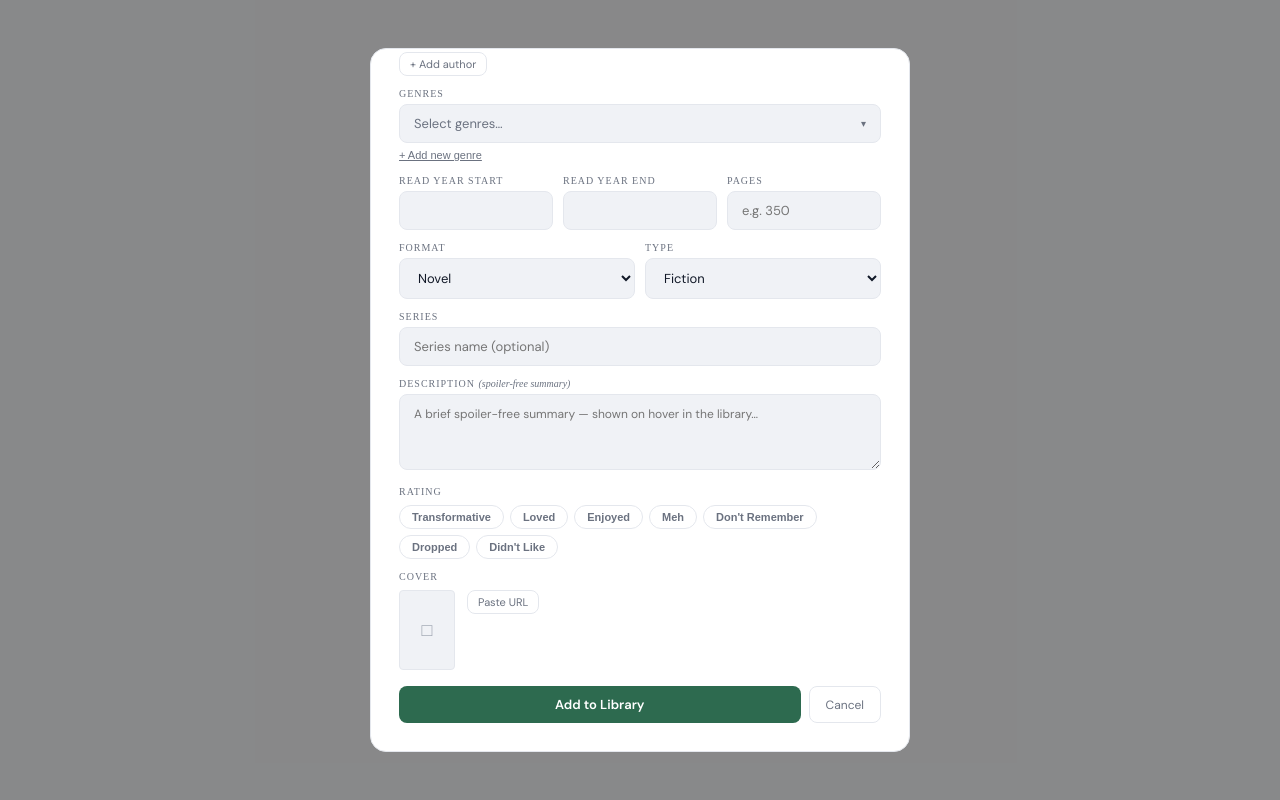
Test: BookModal › Paste URL Escape key closes the paste input
(page scrolled)
Click the button "Paste URL" at (503, 602), box [467,590,539,614]
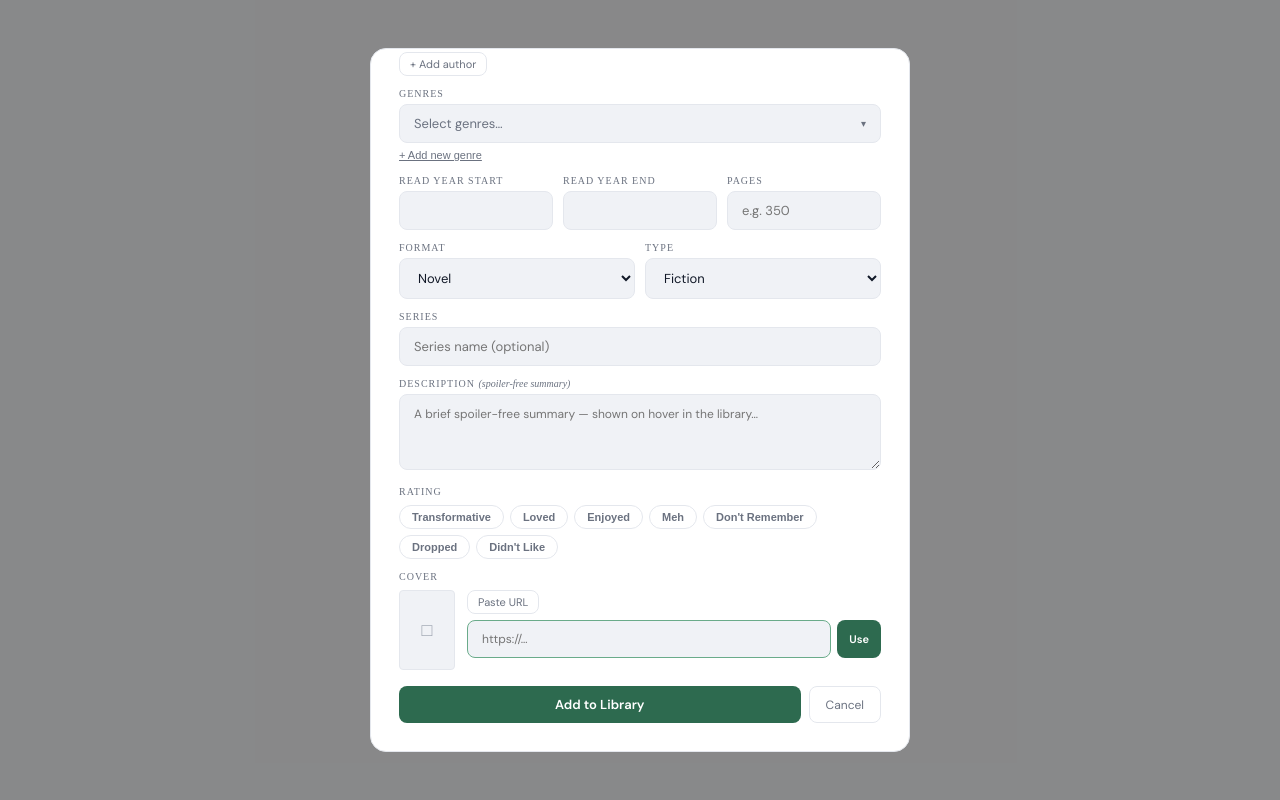
Press Escape in the field with placeholder "https://…", box [467,620,831,658]
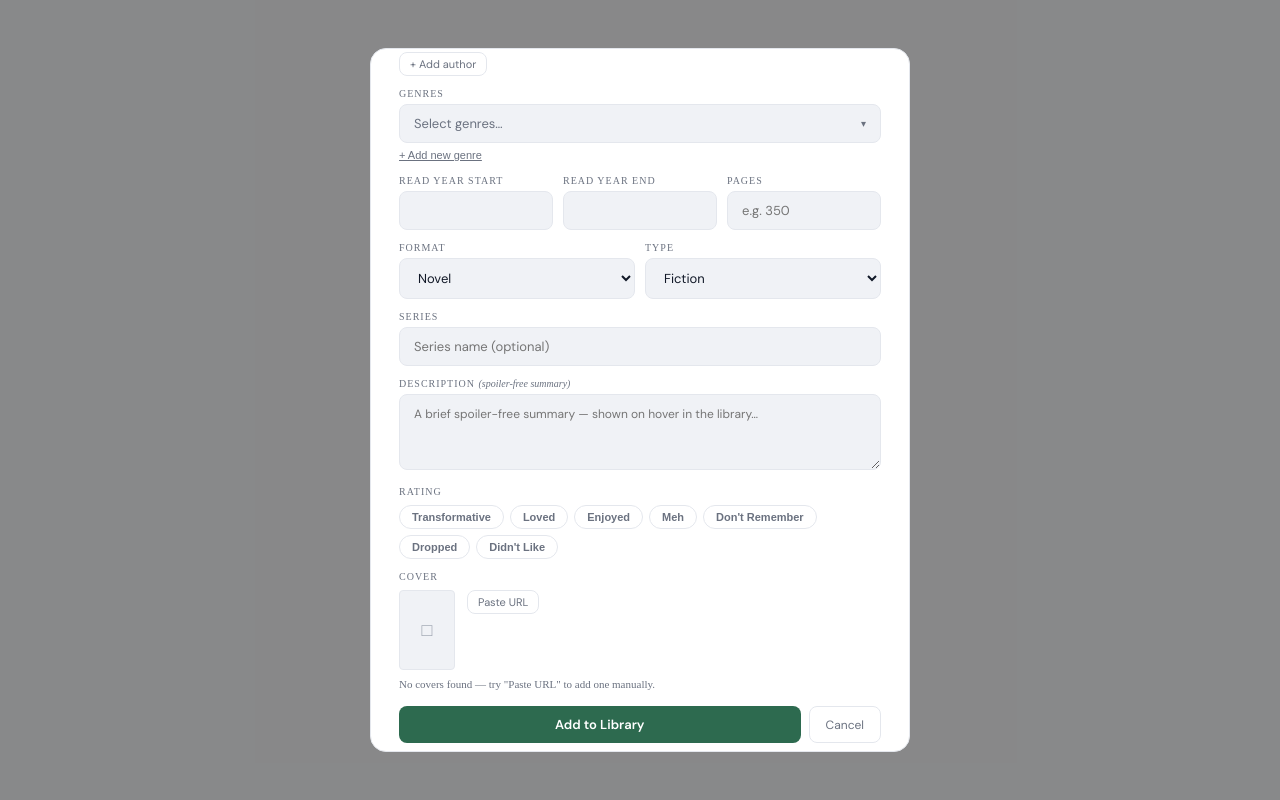
Expected: the field with placeholder "https://…" is gone
